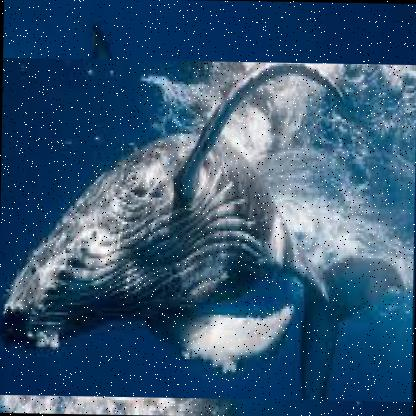blue_whale: (0, 56, 415, 402)
